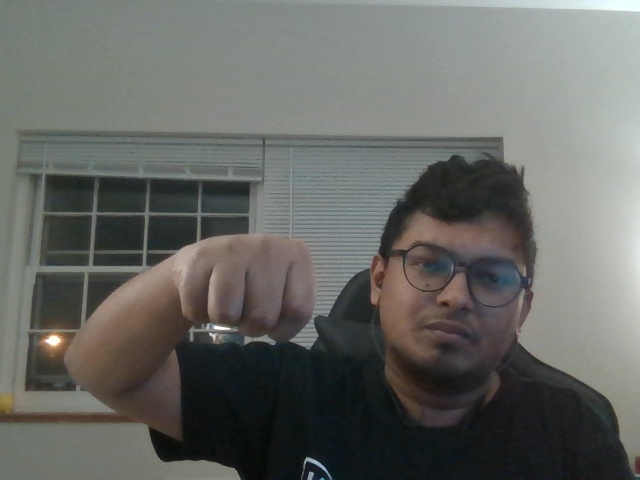yes: (165, 214, 333, 358)
